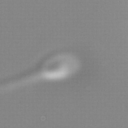normal: (1, 67, 42, 102)
